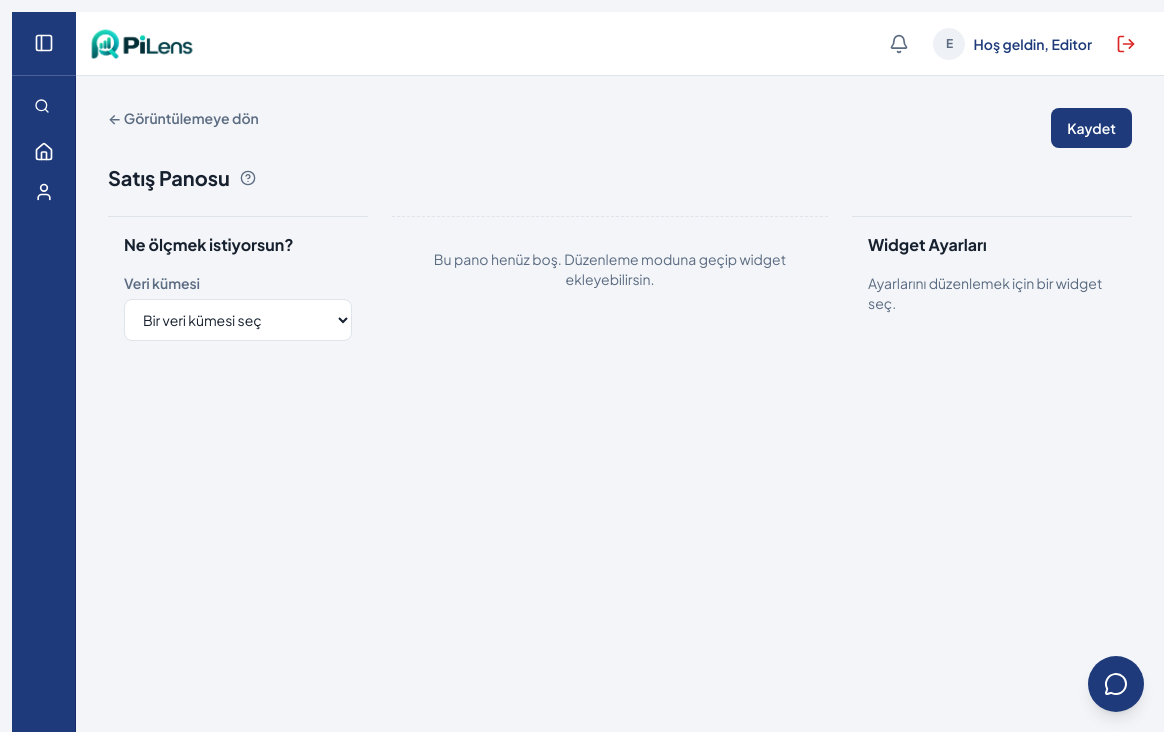
it: DashboardEditPage › kaydet basarisiz olunca hata toast'i gosterir
Click the button "Kaydet" at coordinates (1092, 128), box [1051, 108, 1132, 148]
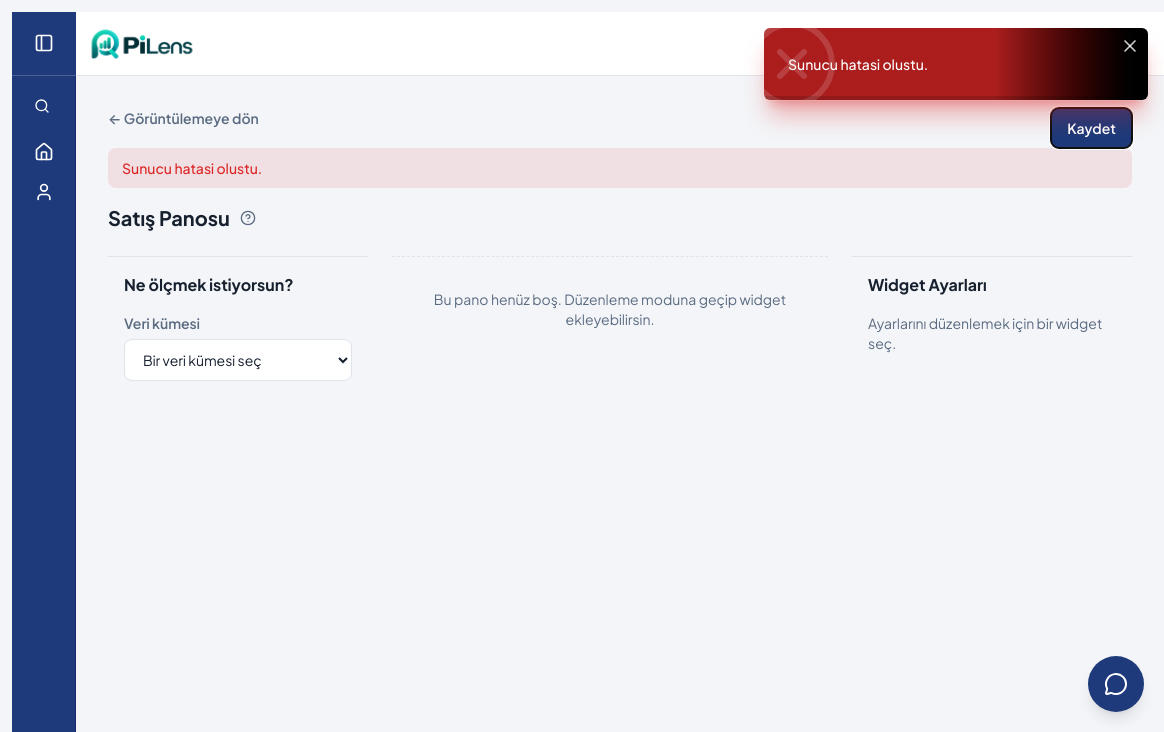
Check: the message reads "Sunucu hatasi olustu.", box [788, 55, 928, 73]
